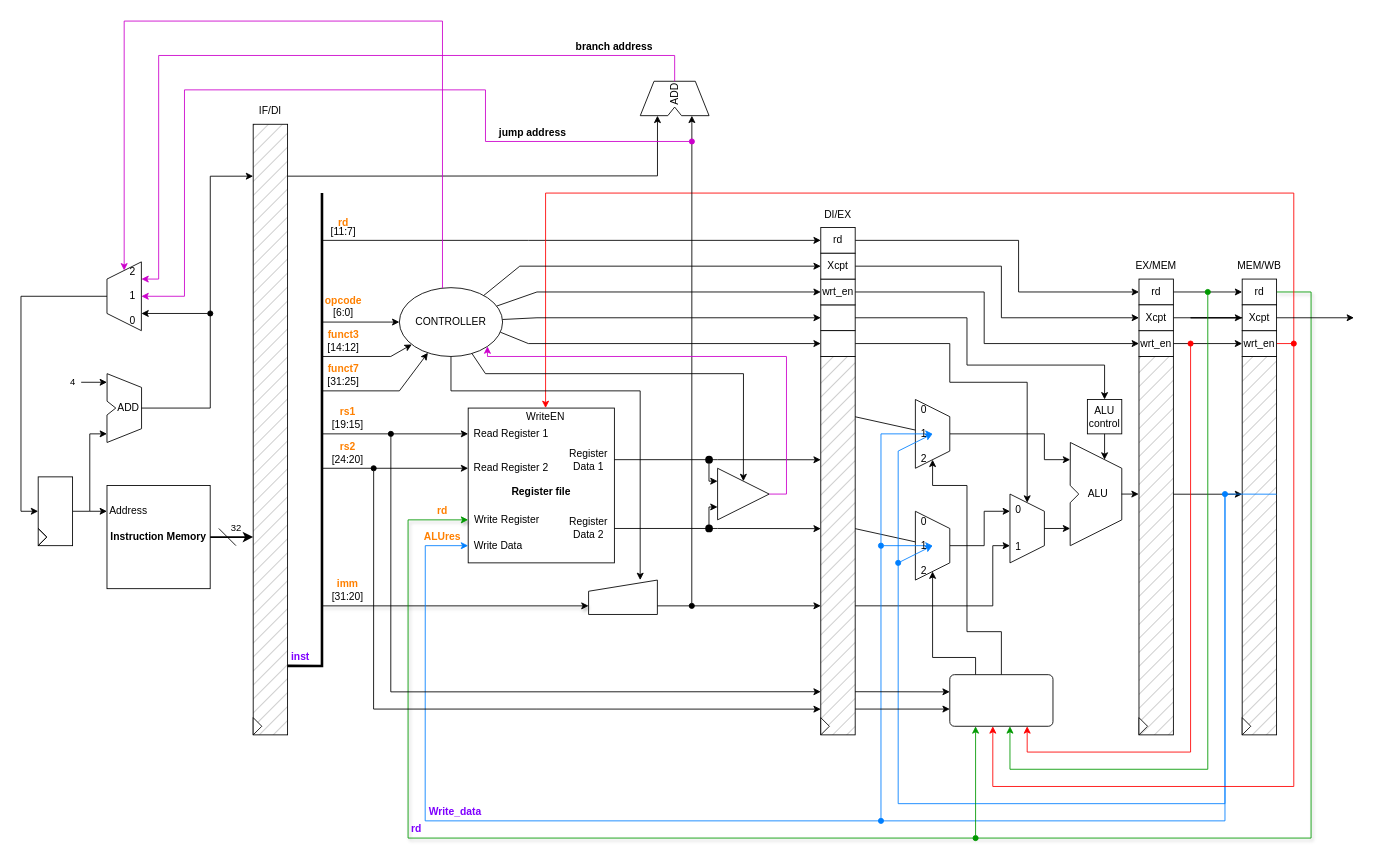
Image size: 1376x866. Some labels were removed from this diagram. Here are the shapes that lost their labels. From the top down, the centre of each, then its label:
the point at 837,317: uop
the point at 837,343: ALUsrc
the point at 55,511: PC
the point at 743,493: Comp
the point at 622,596: Sign extend
the point at 1001,700: ForwardUnit
